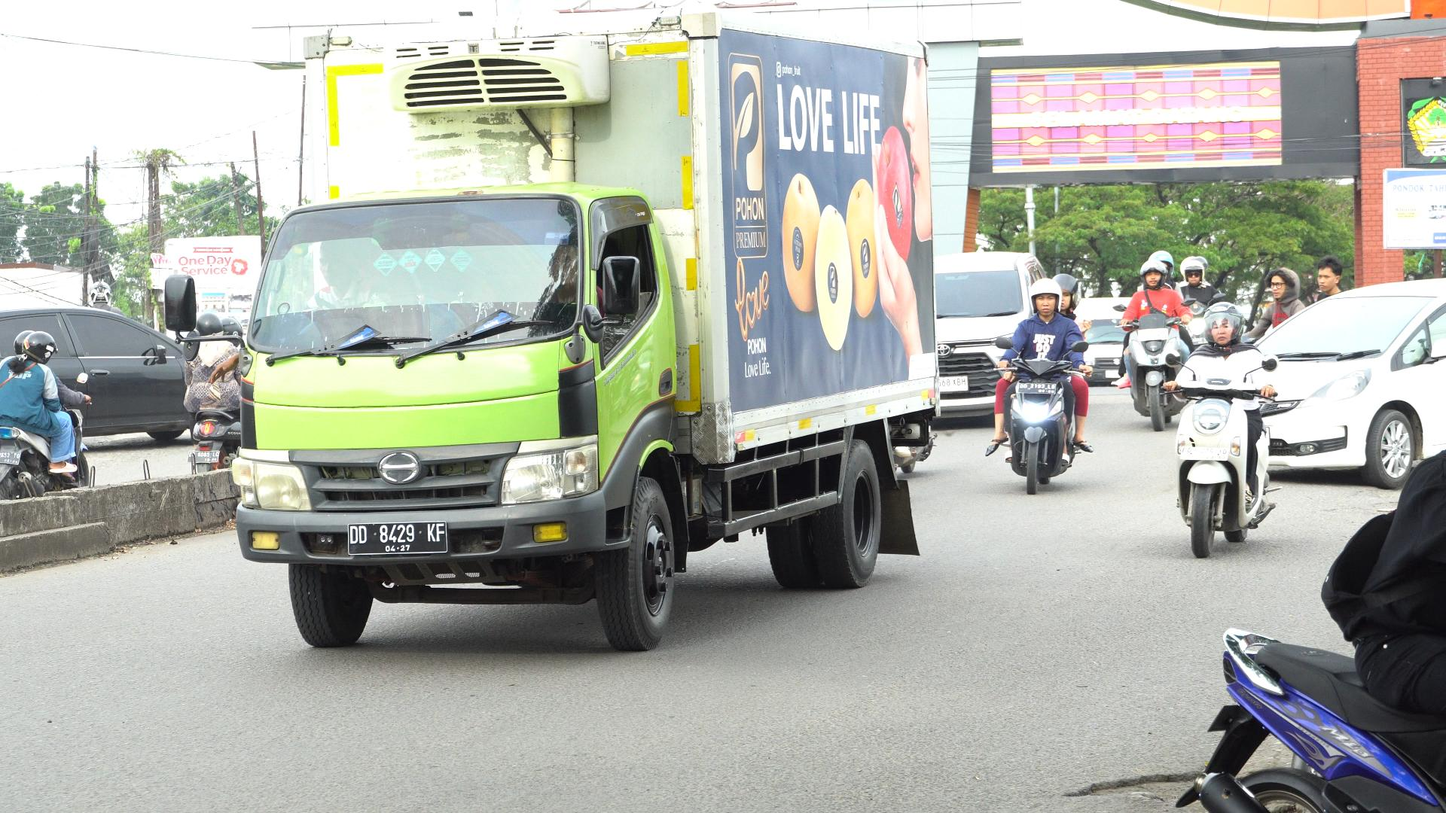number-plate: (1015, 377, 1060, 402)
